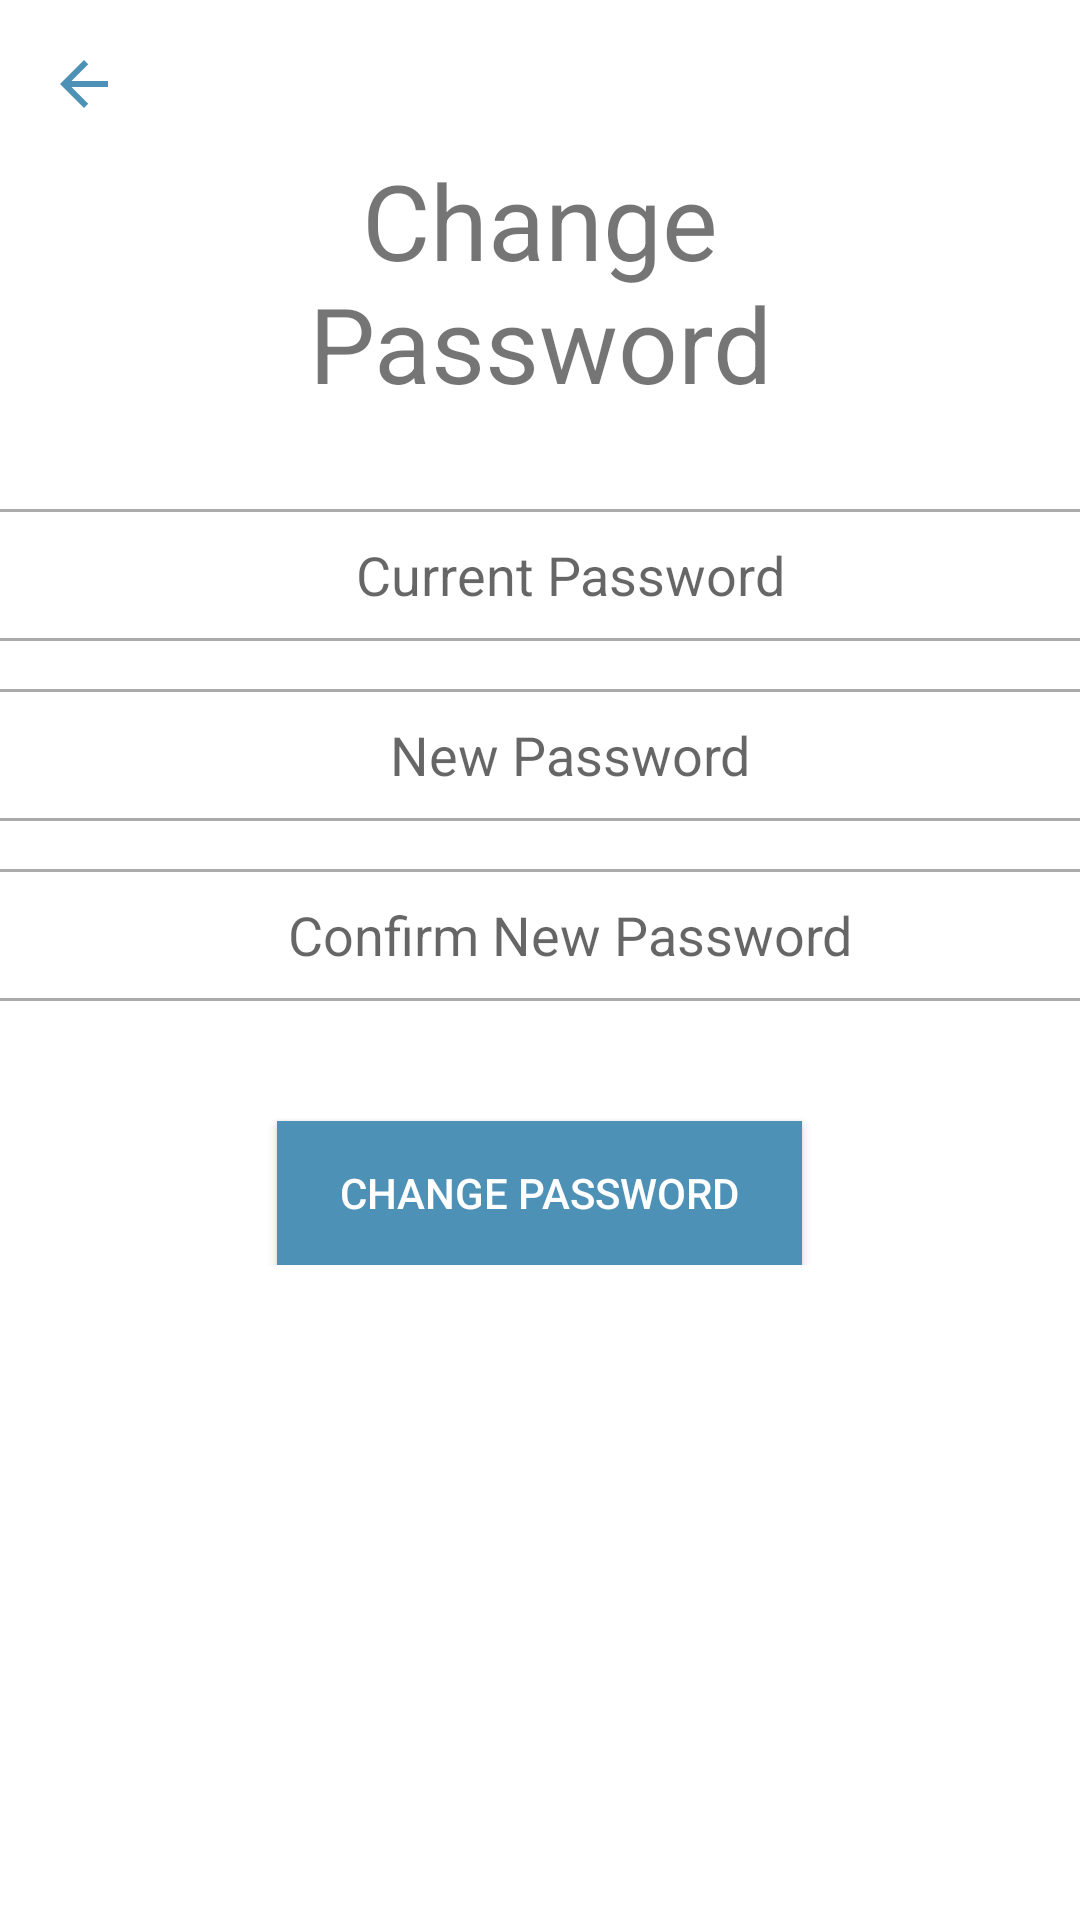

Where to tap for icons on this 1080px x 1920px app screen, as point (x, y):
Return to previous page: point (84, 84)
